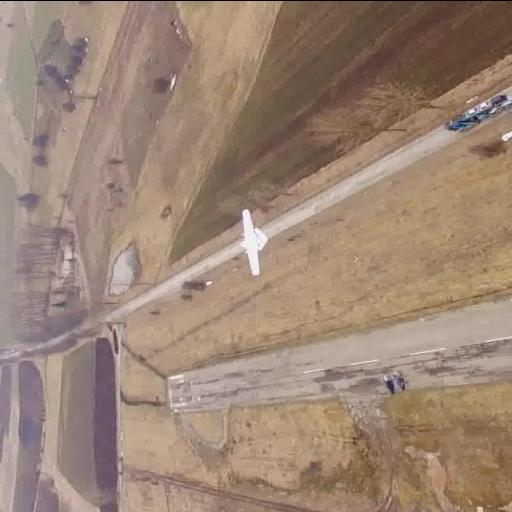uav: (230, 204, 284, 278)
